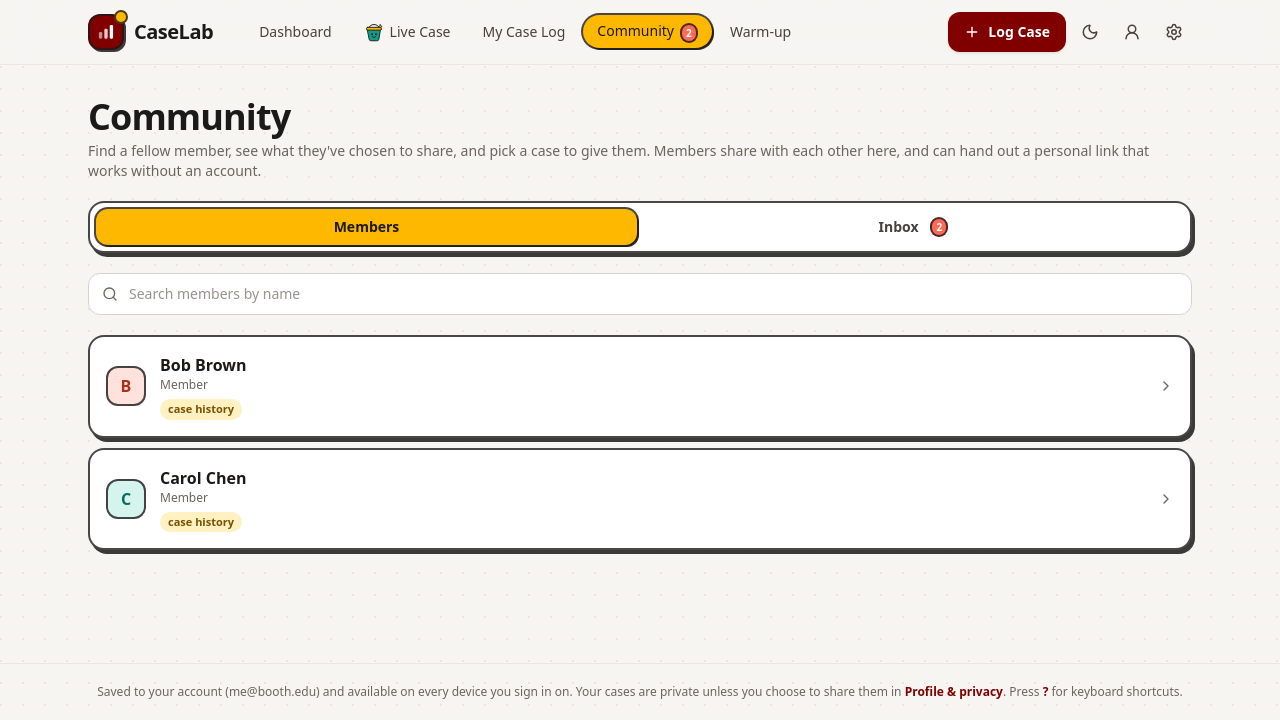
it: five tabs, with people and messages together under Community, and Improvement Areas under My Case Log › switches between Members and Inbox with the two views at the top of the page
This screenshot has width=1280, height=720.
Expected: the heading "Community" is shown, [88, 92, 290, 141]
Expected: the search field labelled "Search members by name" is shown, [88, 273, 1192, 315]
Click the link "Inbox 2" at coordinates (914, 227), box [878, 217, 948, 237]
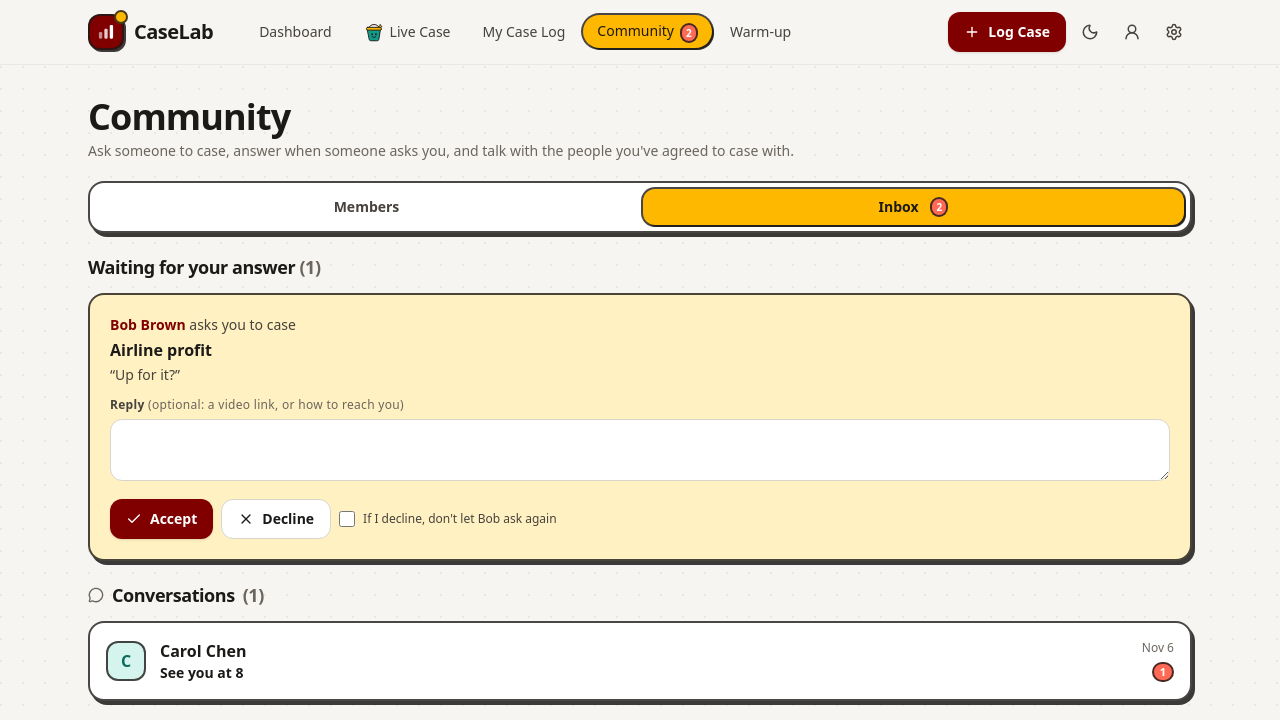
Expected: the field labelled "Search members by name" is not shown
Expected: the heading "Waiting for your answer (1)" is shown, [88, 255, 320, 279]
Click the link "Members" at coordinates (367, 206), box [334, 197, 399, 216]
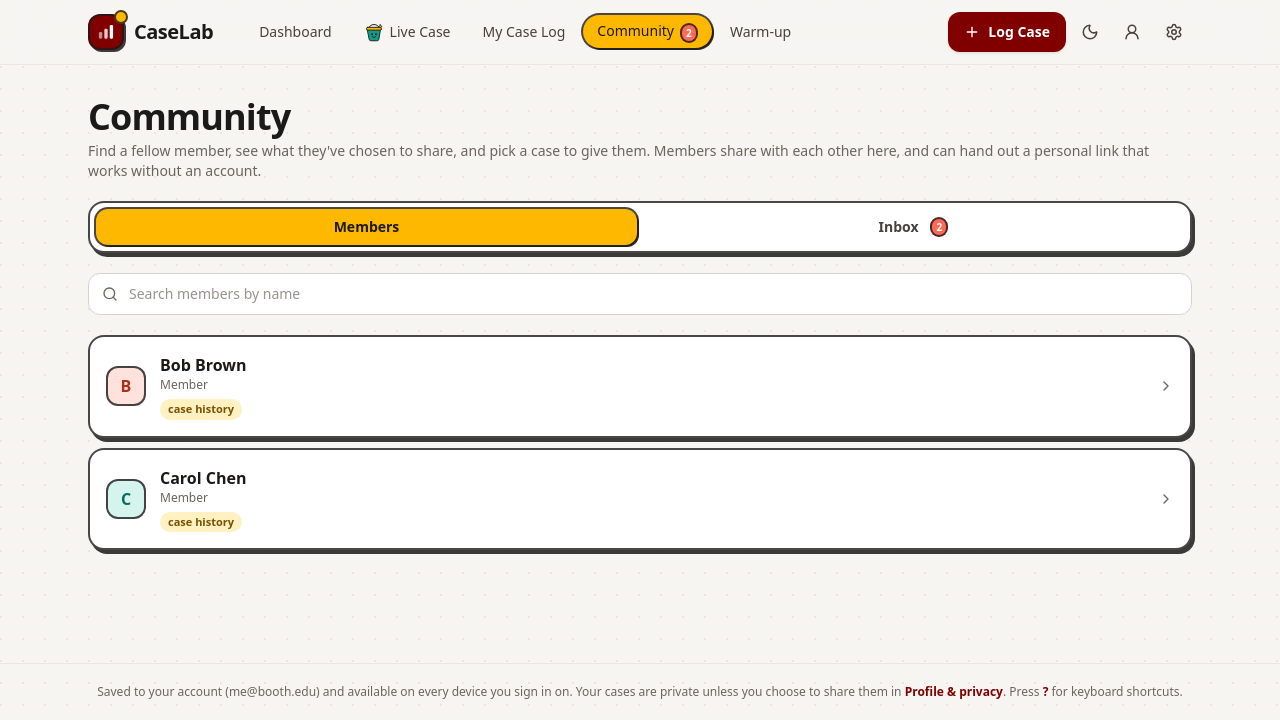
Expected: the search field labelled "Search members by name" is shown, [88, 273, 1192, 315]
